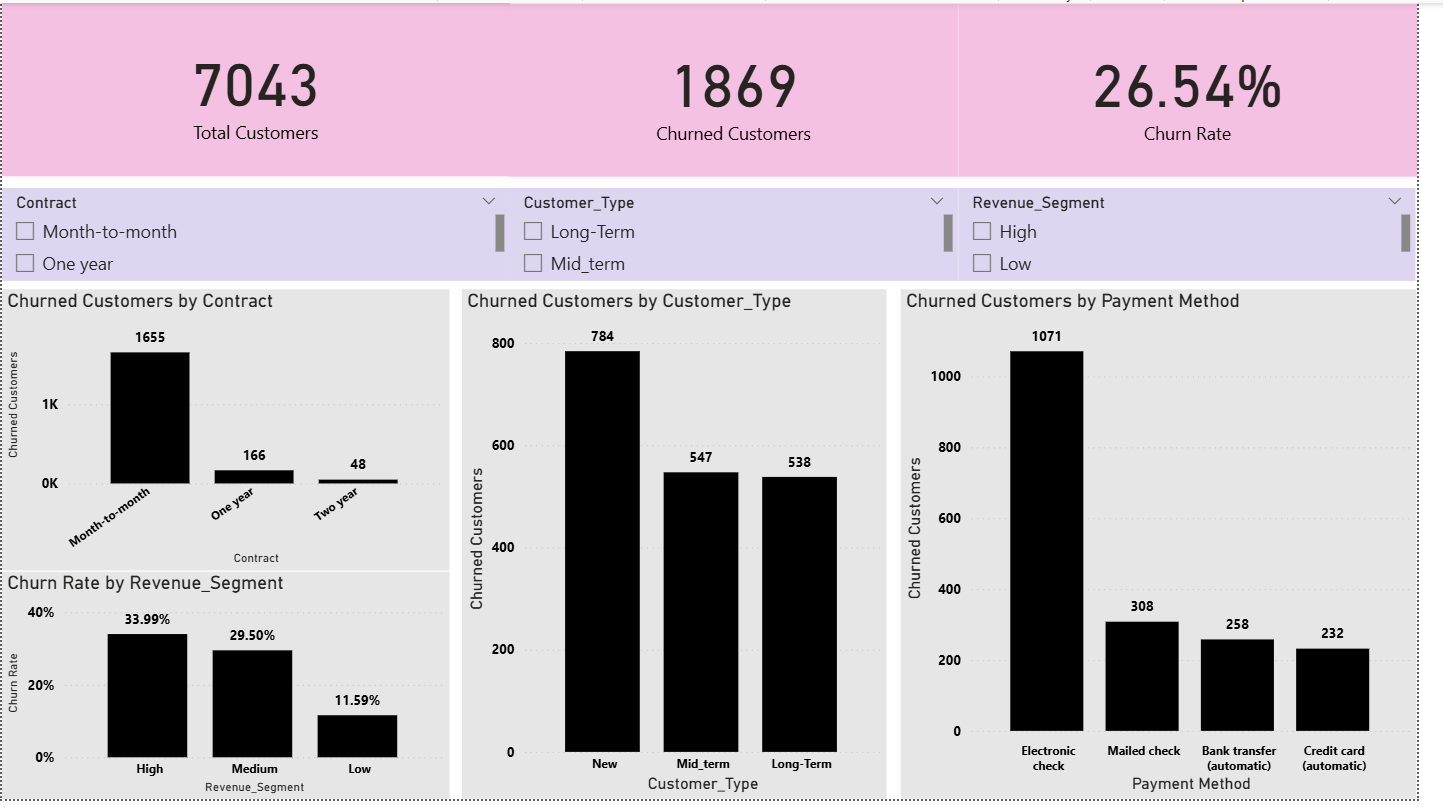

This screenshot's page, from the dashboard's own definition file:
{"tool":"powerbi","page":{"name":"Page 1","canvas":[1280,720],"ordinal":0},"visuals":[{"type":"card","fields":{"Values":["Sheet1.Total Customers"]},"box":[0,0,459.3,157],"z":0},{"type":"card","fields":{"Values":["Sheet1.Churned Customers"]},"box":[459.3,1.2,405.8,155.8],"z":1},{"type":"card","fields":{"Values":["Sheet1.Churn Rate"]},"box":[865.1,1.2,415.1,155.8],"z":2},{"type":"clusteredColumnChart","fields":{"Category":["Sheet1.Contract"],"Y":["Sheet1.Churned Customers"]},"box":[0,259.3,404.7,254.7],"z":3},{"type":"columnChart","fields":{"Y":["Sheet1.Churned Customers"],"Category":["Sheet1.Customer_Type"]},"box":[416.3,259.3,383.7,460.5],"z":4},{"type":"clusteredColumnChart","fields":{"Category":["Sheet1.PaymentMethod"],"Y":["Sheet1.Churned Customers"]},"box":[812.8,259.3,466.3,460.5],"z":5},{"type":"slicer","fields":{"Values":["Sheet1.Contract"]},"box":[0,167.4,459.3,83.7],"z":6},{"type":"slicer","fields":{"Values":["Sheet1.Customer_Type"]},"box":[459.3,167.4,405.8,83.7],"z":7},{"type":"slicer","fields":{"Values":["Sheet1.Revenue_Segment"]},"box":[865.1,167.4,414,83.7],"z":8},{"type":"columnChart","fields":{"Y":["Sheet1.Churn Rate"],"Category":["Sheet1.Revenue_Segment"]},"box":[0,514,404.7,205.8],"z":9}]}

Visuals, with their boxes in screenshot pixels (x1, y1, x2, y2), scaled from the page's 1280x720 canvas onto the 1443x807 screenshot:
card - Sheet1.Total Customers: (x1=0, y1=0, x2=518, y2=176)
card - Sheet1.Churned Customers: (x1=518, y1=1, x2=975, y2=176)
card - Sheet1.Churn Rate: (x1=975, y1=1, x2=1442, y2=176)
clusteredColumnChart - Sheet1.Contract x Sheet1.Churned Customers: (x1=0, y1=291, x2=456, y2=576)
columnChart - Sheet1.Churned Customers x Sheet1.Customer_Type: (x1=469, y1=291, x2=902, y2=806)
clusteredColumnChart - Sheet1.PaymentMethod x Sheet1.Churned Customers: (x1=916, y1=291, x2=1442, y2=806)
slicer - Sheet1.Contract: (x1=0, y1=188, x2=518, y2=281)
slicer - Sheet1.Customer_Type: (x1=518, y1=188, x2=975, y2=281)
slicer - Sheet1.Revenue_Segment: (x1=975, y1=188, x2=1442, y2=281)
columnChart - Sheet1.Churn Rate x Sheet1.Revenue_Segment: (x1=0, y1=576, x2=456, y2=806)
